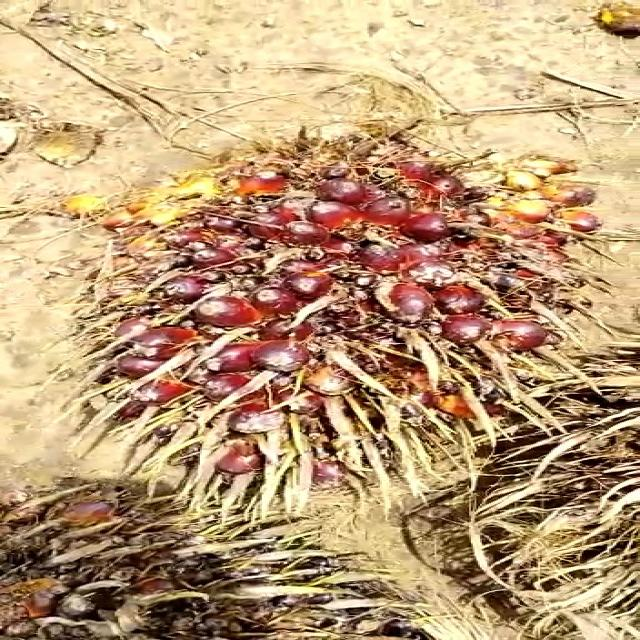palm oil: (41, 94, 640, 468)
